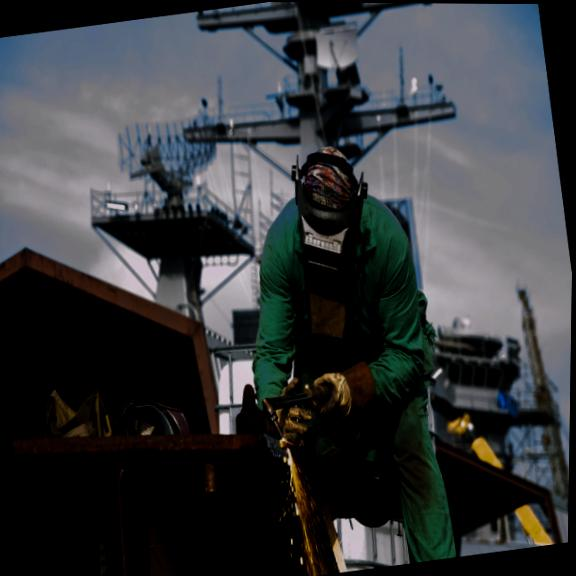no_safety_vest: (237, 175, 434, 417)
